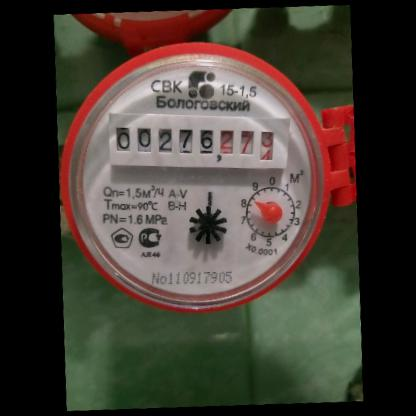digital_screen: (102, 107, 220, 171)
